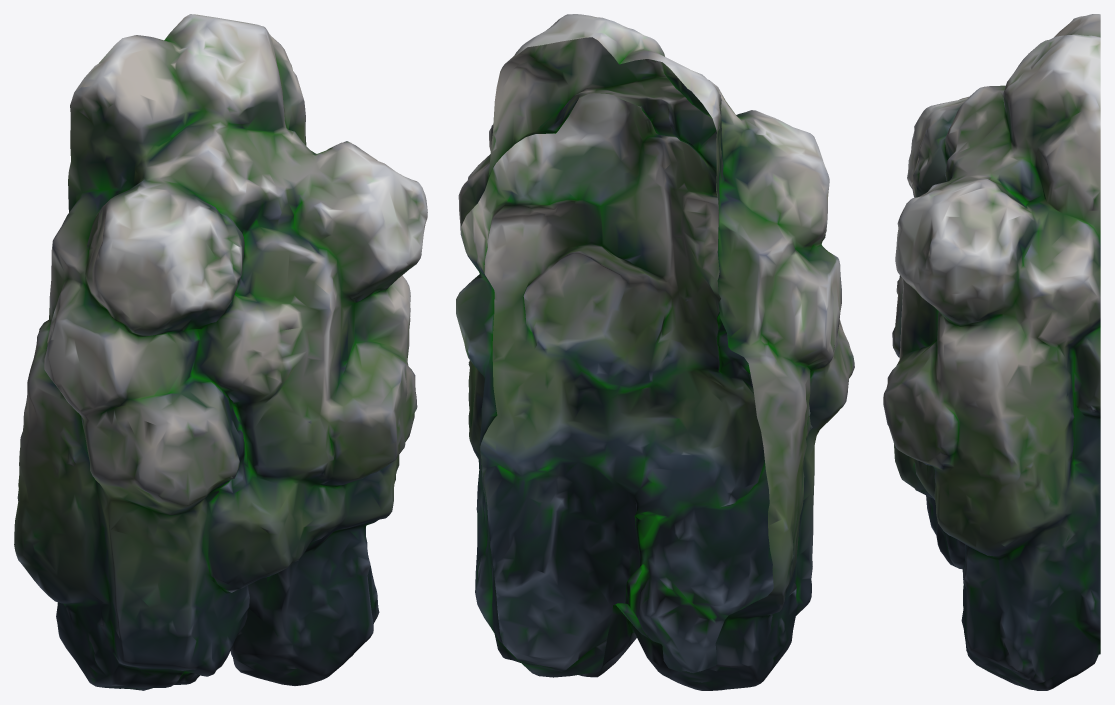
The model's file is M_Cliff_Rock_T16.fbx.
3 renders of one model, left to right at view 1: azimuth 30°, elevation 25°; view 2: azimuth 150°, elevation 25°; view 3: azimuth 270°, elevation 25°, orthographic. The views are drawn at different scales.
Parts seen in each view (by area): view 1: M_Cliff_Rock_T16; view 2: M_Cliff_Rock_T16; view 3: M_Cliff_Rock_T16.
Part boxes in pixels (x1=…): M_Cliff_Rock_T16: x1=14, y1=14, x2=427, y2=690; M_Cliff_Rock_T16: x1=456, y1=14, x2=854, y2=690; M_Cliff_Rock_T16: x1=883, y1=14, x2=1100, y2=690.
Bounding box in the file's own units: 12.28 × 22.1 × 7.04.
